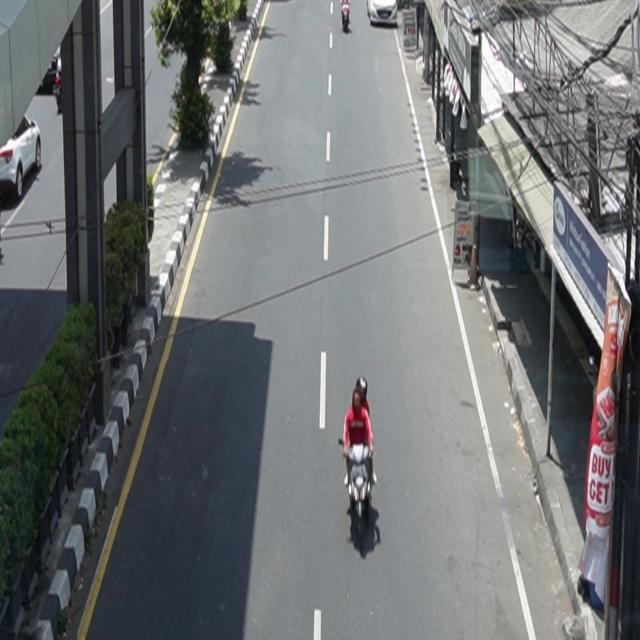car: (1, 114, 43, 200), (367, 1, 398, 26)
